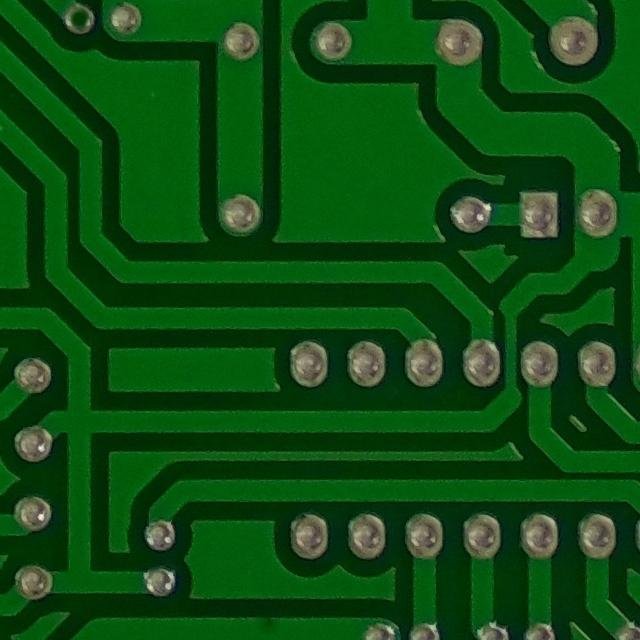missing_hole: (50, 0, 104, 44)
